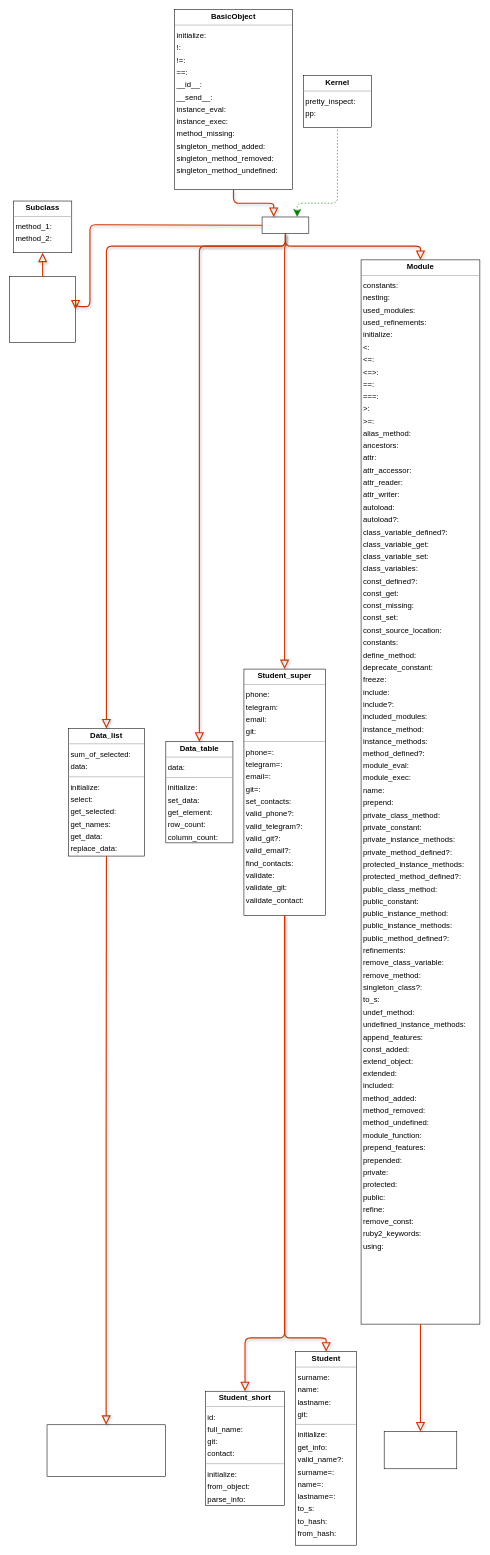
Some shapes in this 490 by 1555 pixel diagram are drawn without their labels. The shapes that lost their labels are listed below. From the top down, each one's centre as x and y in pixels, then its label:
At point 285,224: "Object".
At point 42,309: "Main_class prepare: method_1: method_2:".
At point 105,1450: "Data_list_student_short get_names: get_data:".
At point 420,1450: "Class json_creatable?:".
